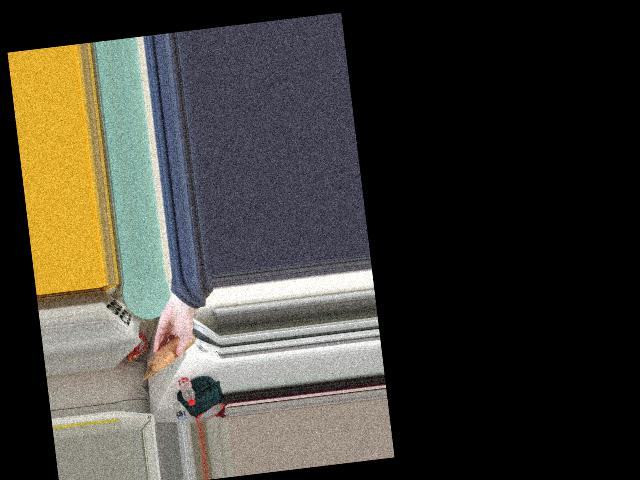sweet_potato: (156, 328, 196, 363)
